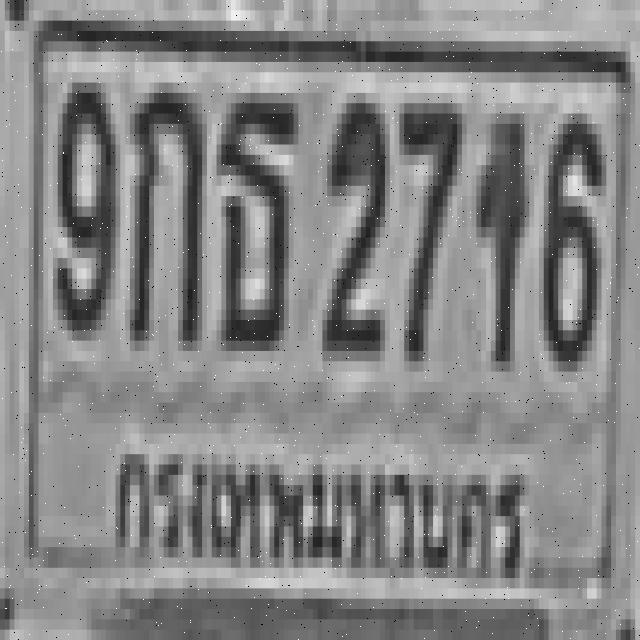1: (472, 104, 524, 362)
10GorGai: (125, 77, 197, 336)
2: (320, 93, 382, 351)
33ThorThong: (214, 82, 296, 340)
6: (541, 104, 599, 362)
7: (395, 93, 457, 351)
9: (53, 72, 111, 330)
Bangkok: (106, 423, 534, 609)
